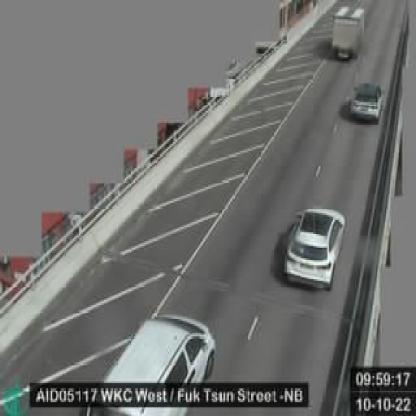Car: (86, 311, 214, 409), (283, 205, 347, 289), (347, 82, 381, 122)
Truck: (330, 7, 364, 63)
